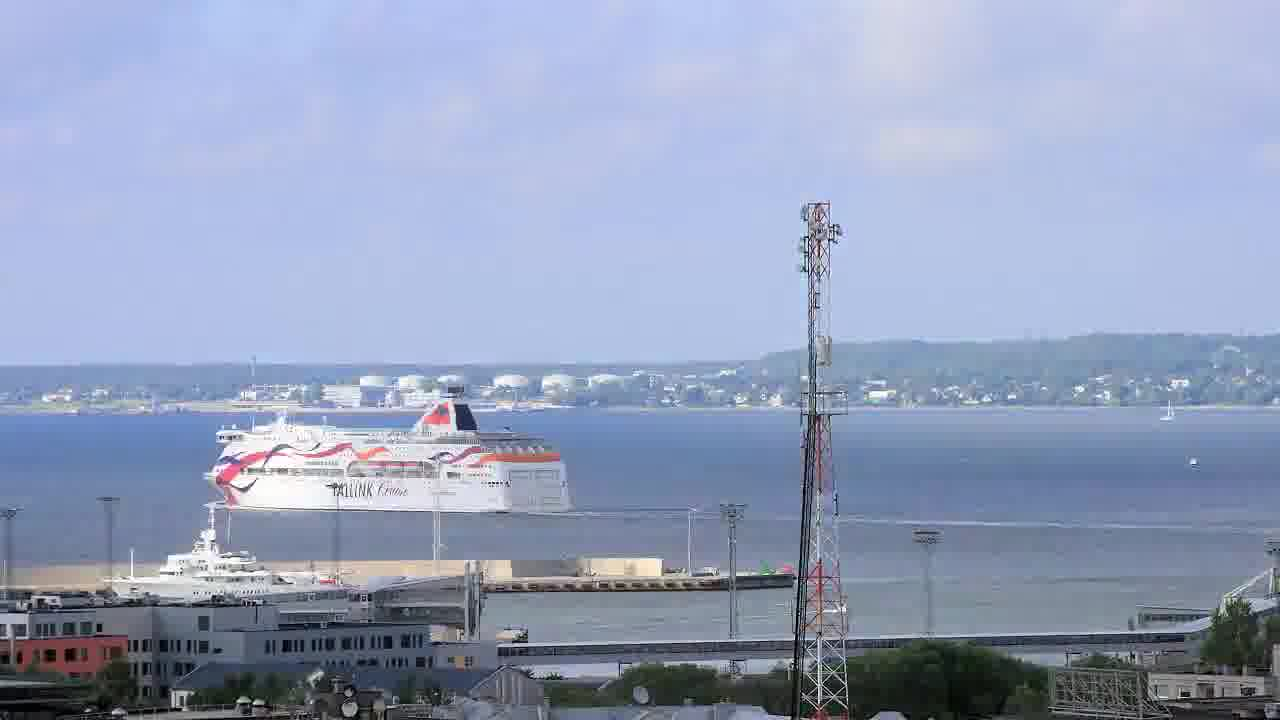type-3: (191, 354, 584, 530), (96, 508, 381, 605)
